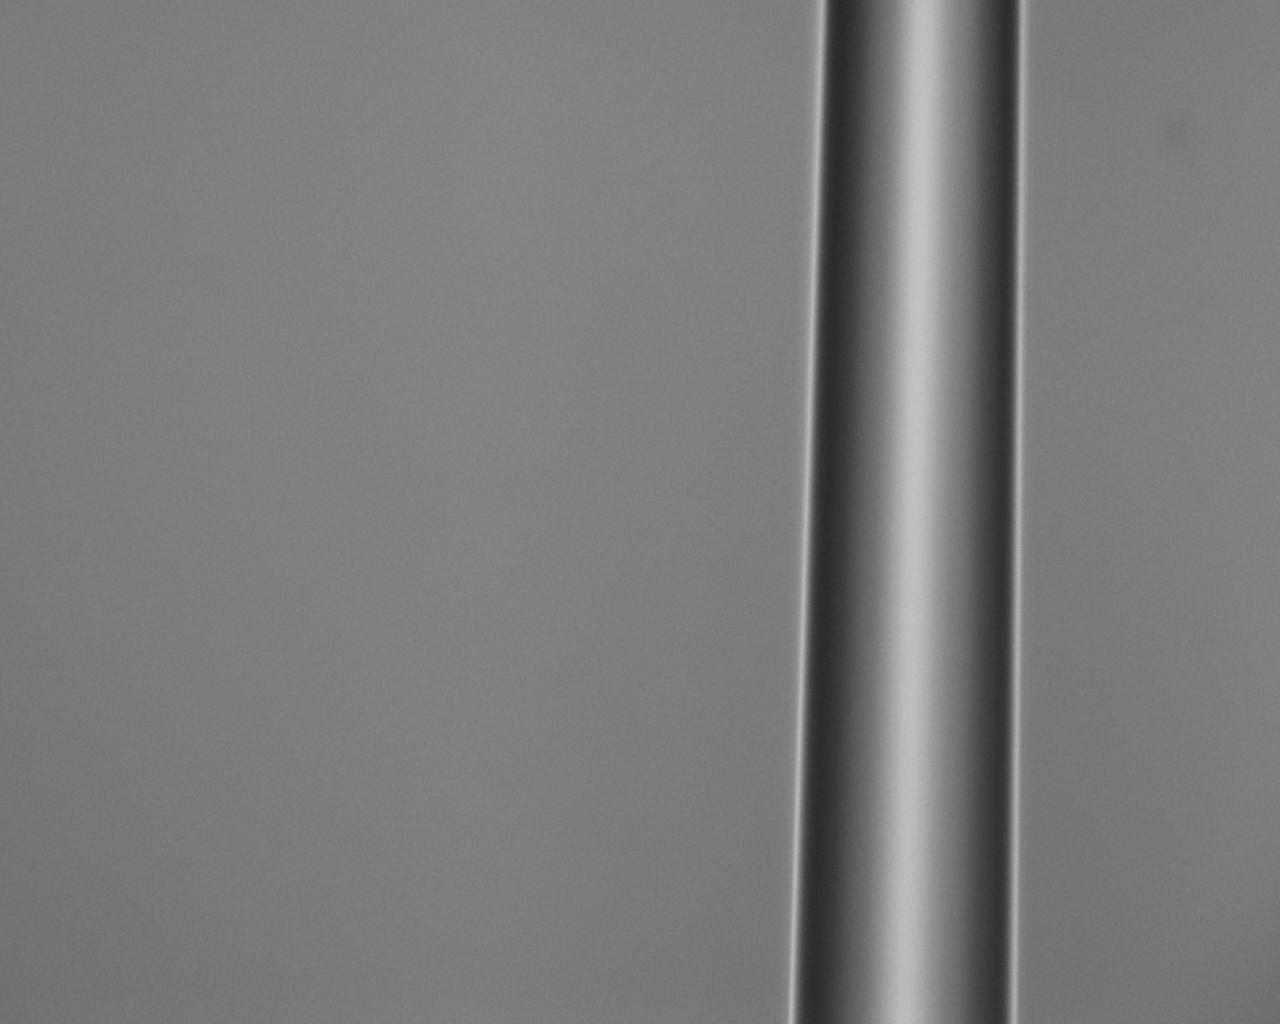fiber: (0, 634, 640, 1024), (640, 634, 1280, 1024), (0, 38, 606, 246)
